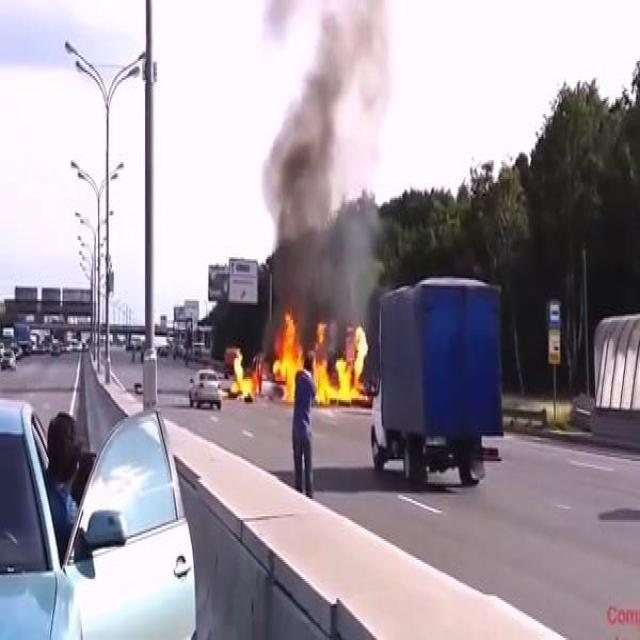Fire: (271, 306, 369, 412), (228, 346, 258, 406)
Smoke: (260, 22, 380, 309)
